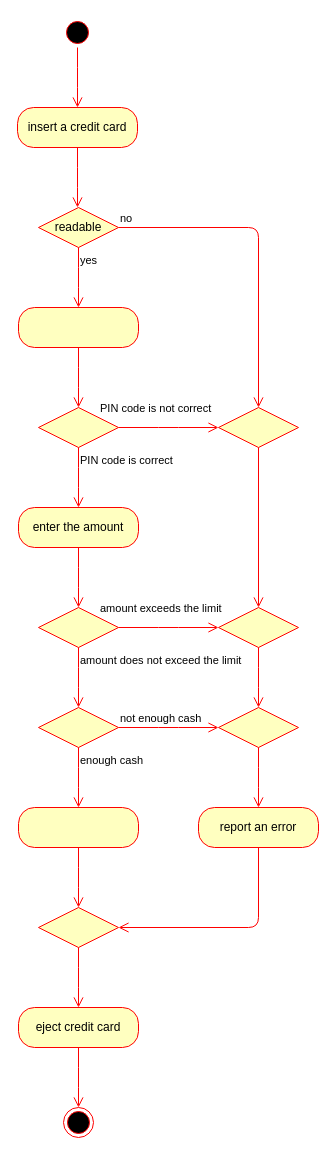
This 336x1155 diagram has some shape labels left out. The centre of each missing label's shape, as x and y in pixels:
enter PIN code: pixel 78 327
receive cash: pixel 78 827
